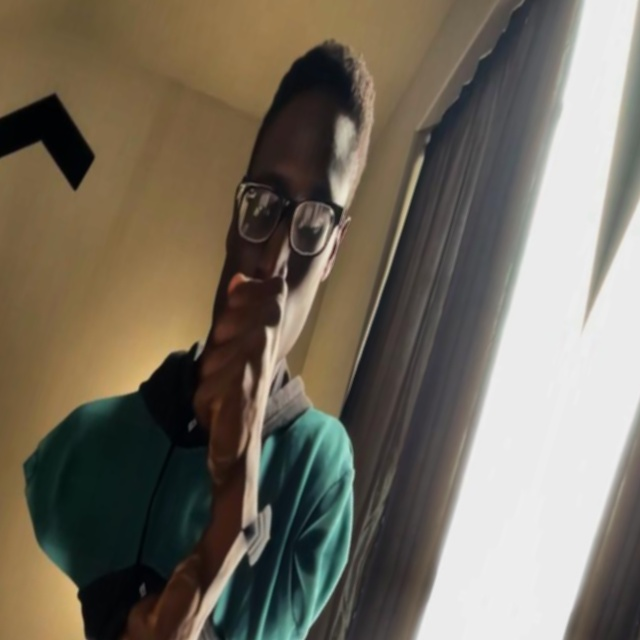Rock: (169, 260, 308, 499)
